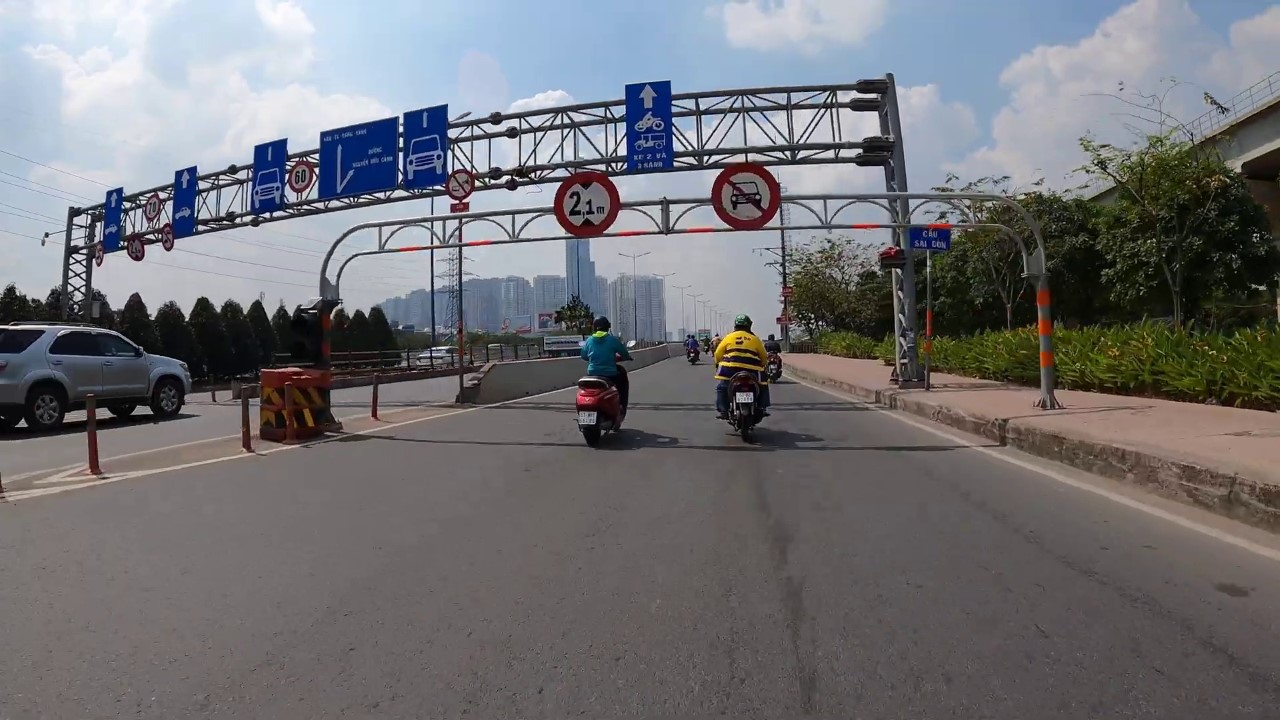gioi_han_60km: (287, 158, 314, 193)
